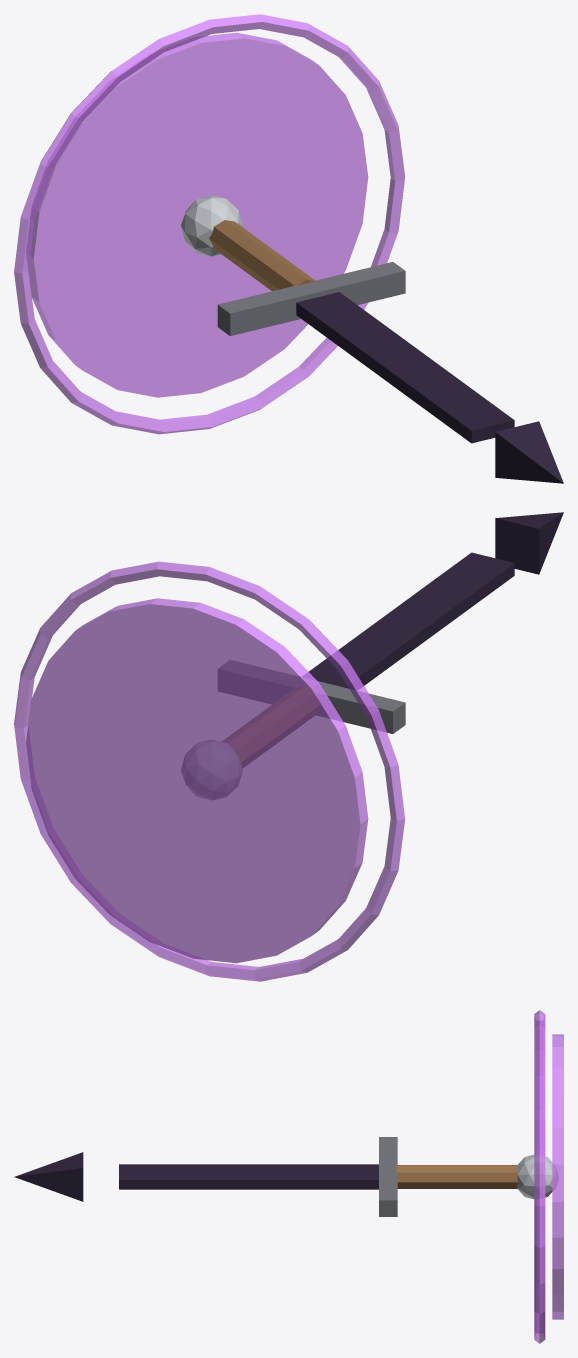
The model's file is weapon_pickup_obsidian_blade_epic.glb.
3 renders of one model, top to bottom at view 1: azimuth 30°, elevation 25°; view 2: azimuth 150°, elevation 25°; view 3: azimuth 270°, elevation 25°, orthographic. The views are drawn at different scales.
Visible parts, largest first — view 1: rarity_base_disc, rarity_orbit_ring, blade, guard, grip, tip, pommel; view 2: rarity_base_disc, rarity_orbit_ring, blade, guard, grip, tip, pommel; view 3: blade, rarity_orbit_ring, rarity_base_disc, grip, tip, pommel, guard.
Part boxes in pixels (box(x1,y1,x2,y2)): rarity_base_disc: box(26, 32, 368, 397); rarity_orbit_ring: box(14, 14, 405, 434); blade: box(296, 292, 514, 443); guard: box(217, 262, 405, 336); grip: box(209, 220, 315, 291); tip: box(495, 421, 563, 483); pommel: box(181, 195, 242, 256); rarity_base_disc: box(26, 598, 368, 963); rarity_orbit_ring: box(14, 561, 405, 981); blade: box(302, 552, 514, 689); guard: box(218, 660, 405, 733); grip: box(222, 686, 319, 767); tip: box(495, 512, 563, 574); pommel: box(181, 740, 242, 799); blade: box(119, 1164, 378, 1189); rarity_orbit_ring: box(534, 1010, 545, 1343); rarity_base_disc: box(552, 1034, 563, 1319); grip: box(396, 1165, 518, 1188); tip: box(14, 1152, 83, 1201); pommel: box(517, 1154, 558, 1199); guard: box(379, 1137, 397, 1216).
Size of the model in its own units: 1.45 by 1.45 by 2.38.
